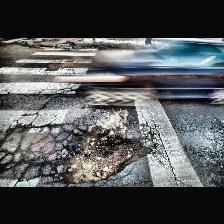pothole: (55, 125, 149, 184)
